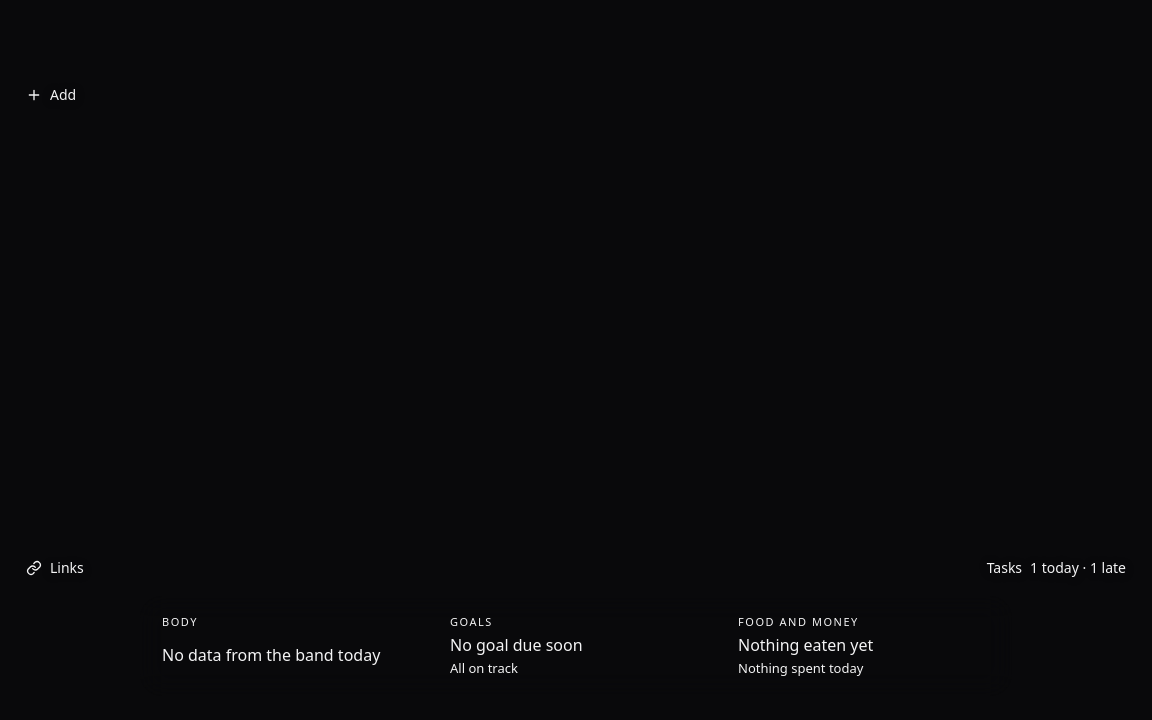
Test: the corners › says where links come from when there are none
The width and height of the screenshot is (1152, 720).
Click the button "Links" at [55, 568], box [16,549,94,586]
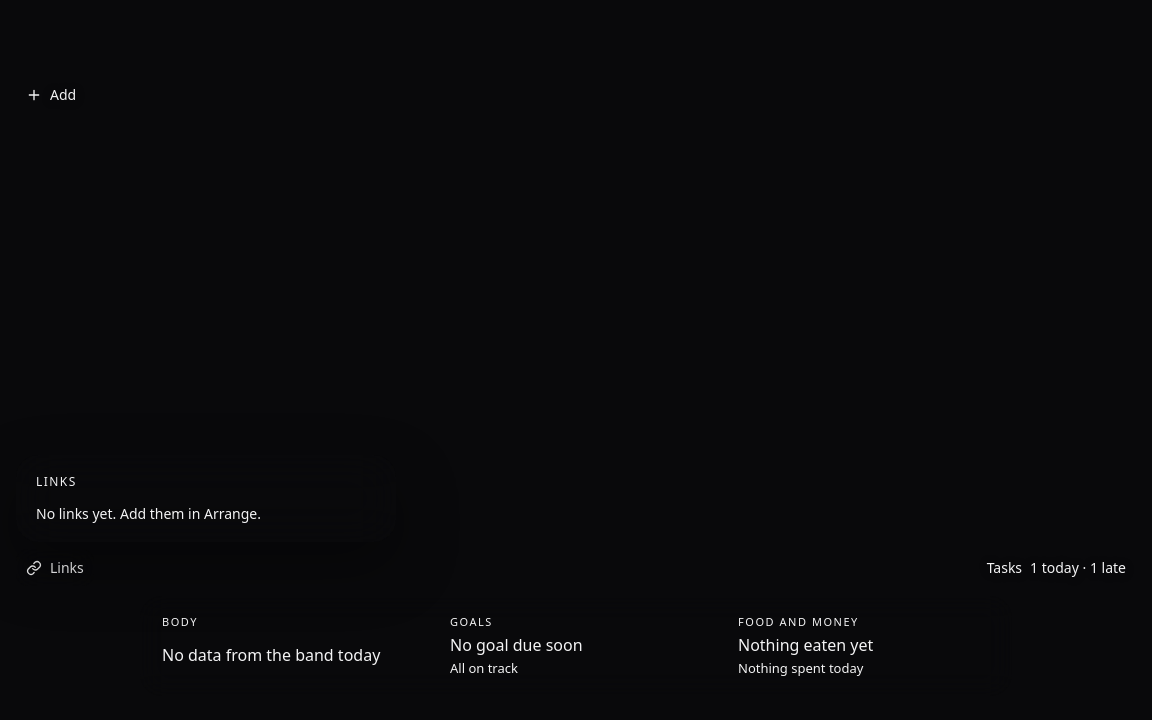
Result: the text "No links yet. Add them in Arrange." is shown at [36,504,261,523]
